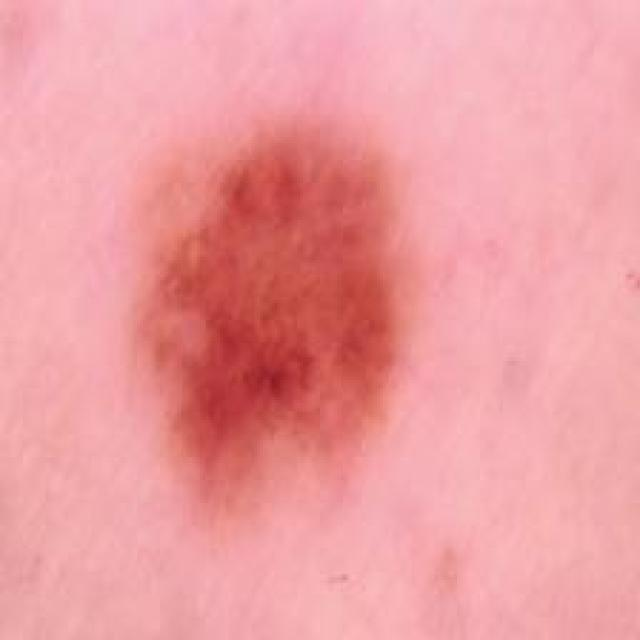Cancer: (123, 109, 423, 528)
